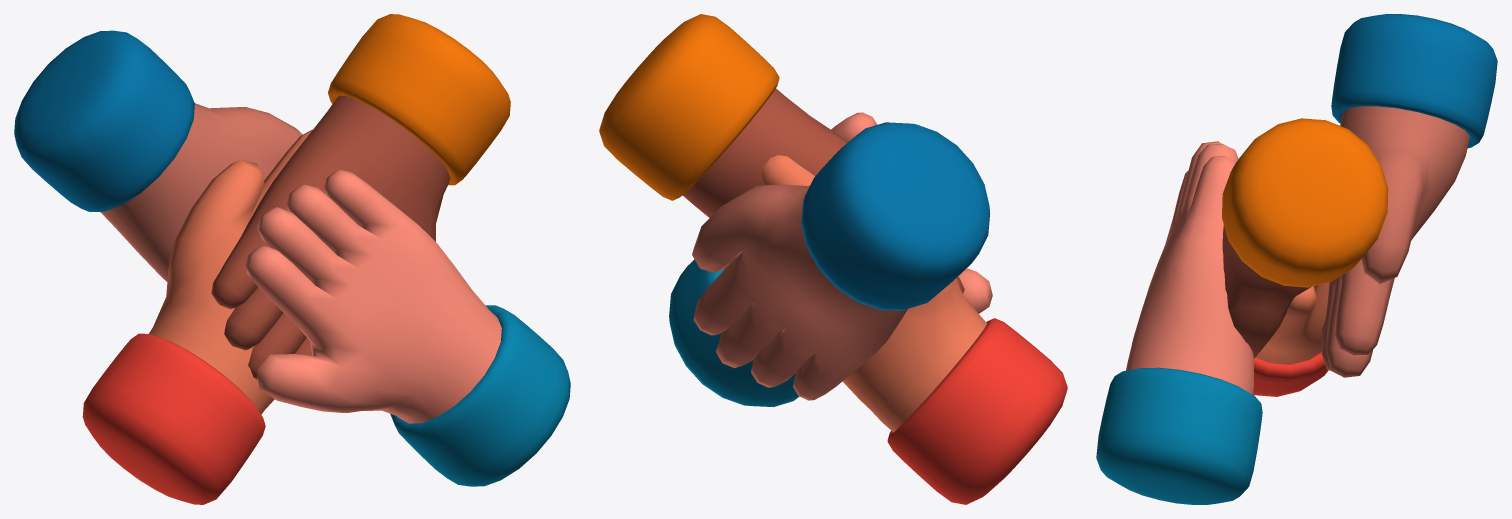
3 renders of one model, left to right at view 1: azimuth 30°, elevation 25°; view 2: azimuth 150°, elevation 25°; view 3: azimuth 270°, elevation 25°, orthographic. The views are drawn at different scales.
Visible parts, largest first — view 1: 0005; view 2: 0005; view 3: 0005.
Boxes of the visible parts, x1=… form: 0005: x1=14, y1=14, x2=570, y2=504; 0005: x1=599, y1=14, x2=1067, y2=504; 0005: x1=1096, y1=14, x2=1497, y2=504.
Bounding box in the file's own units: 3.53 × 3.33 × 3.13.
